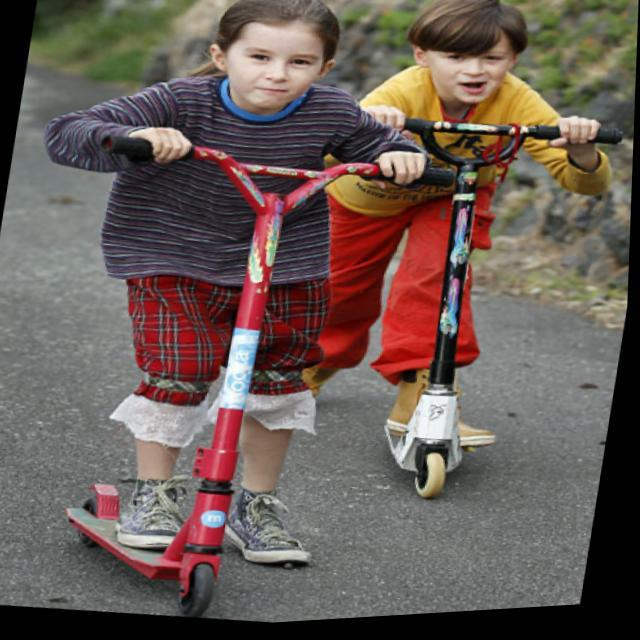Nonhelmet: (194, 0, 344, 116), (403, 0, 533, 118)
